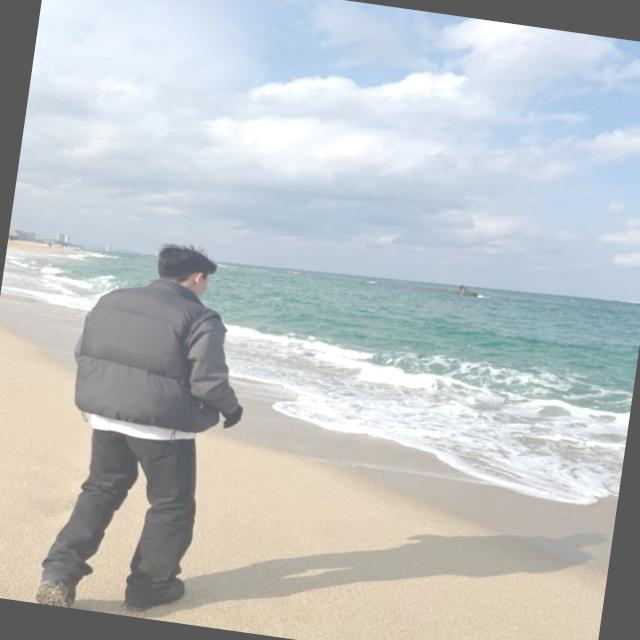denimpants: (40, 409, 207, 615)
padding: (65, 272, 238, 440)
